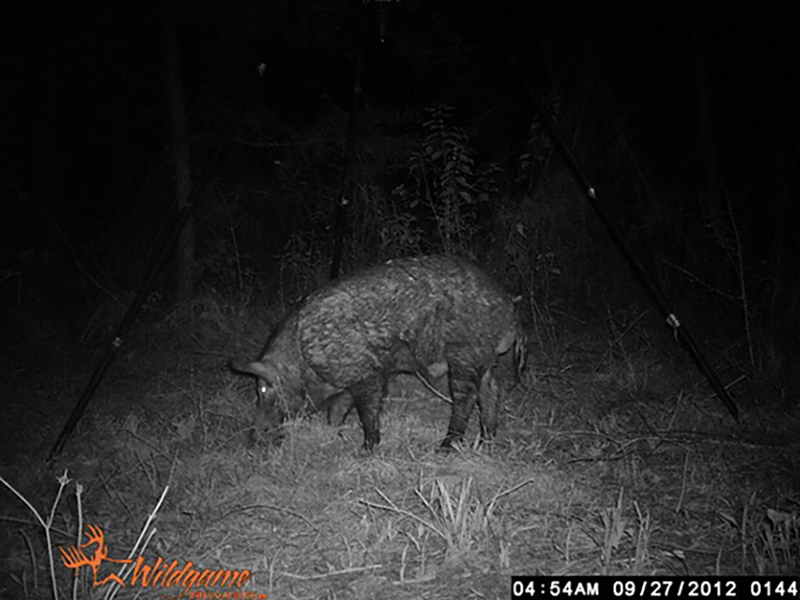cinghiale: (228, 254, 554, 457)
